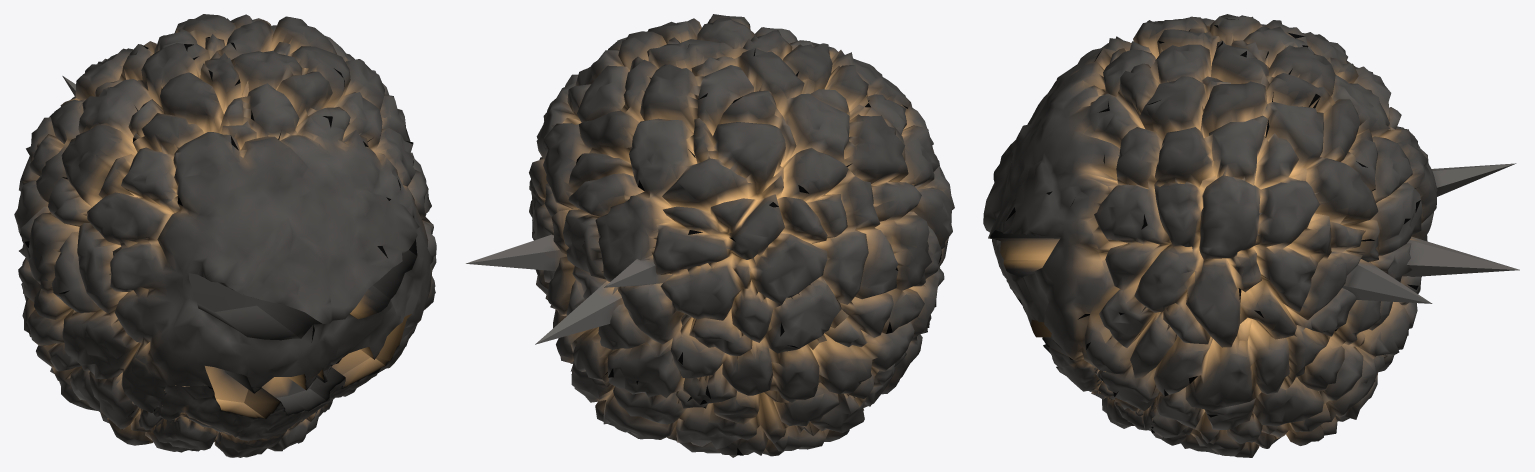
The model's file is Pebble.fbx.
3 views of the same model, side by side, from view 1: azimuth 30°, elevation 25°; view 2: azimuth 150°, elevation 25°; view 3: azimuth 270°, elevation 25° (orthographic). The views are drawn at different scales.
Visible parts, largest first — view 1: Body, Jaw; view 2: Body; view 3: Body, Jaw.
Part boxes in pixels (x1=…): Body: x1=14, y1=14, x2=436, y2=452; Jaw: x1=115, y1=324, x2=417, y2=457; Body: x1=466, y1=14, x2=954, y2=457; Body: x1=983, y1=14, x2=1519, y2=457; Jaw: x1=1006, y1=280, x2=1156, y2=432.
Bounding box in the file's own units: 1.05 × 1.04 × 1.24.
Materials: 2 (2 with a texture image).
